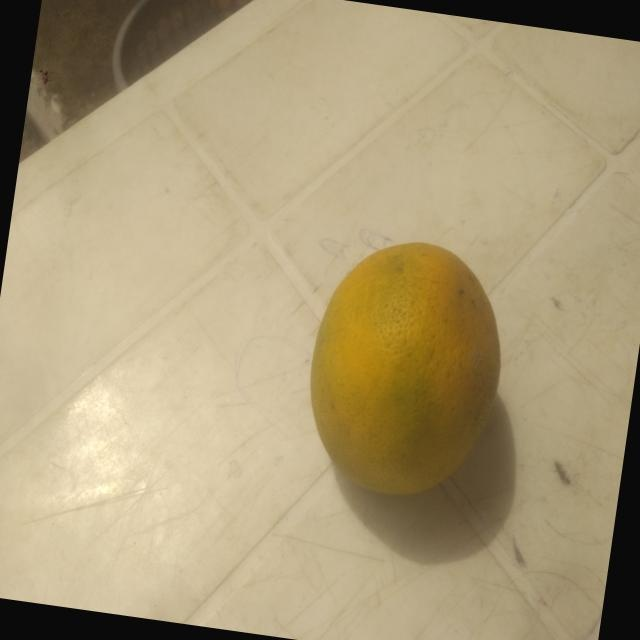agrume: (280, 218, 540, 530)
